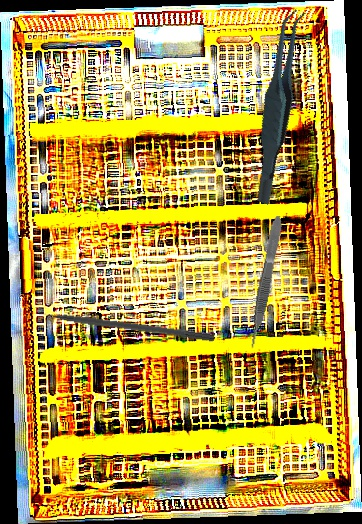Pusher: (26, 305, 215, 343)
Tissue Forceps: (216, 6, 342, 206), (244, 214, 286, 351)
